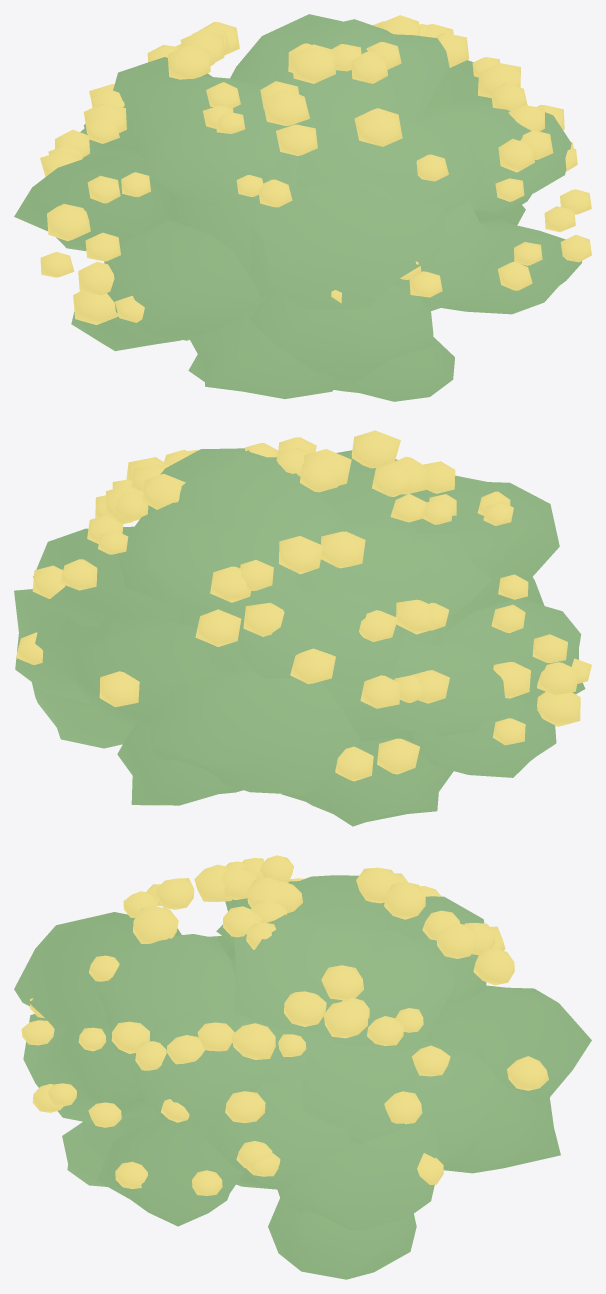
Rendered from Blender_Gorse_2.glb.
3 renders of one model, top to bottom at view 1: azimuth 30°, elevation 25°; view 2: azimuth 150°, elevation 25°; view 3: azimuth 270°, elevation 25°, orthographic.
Visible parts, largest first — view 1: Blender_Gorse_2; view 2: Blender_Gorse_2; view 3: Blender_Gorse_2.
Part boxes in pixels (<box>): Blender_Gorse_2: <box>14,14,591,401</box>; Blender_Gorse_2: <box>14,430,591,826</box>; Blender_Gorse_2: <box>14,855,591,1279</box>.
Bounding box in the file's own units: 2.32 × 1.3 × 2.28.
